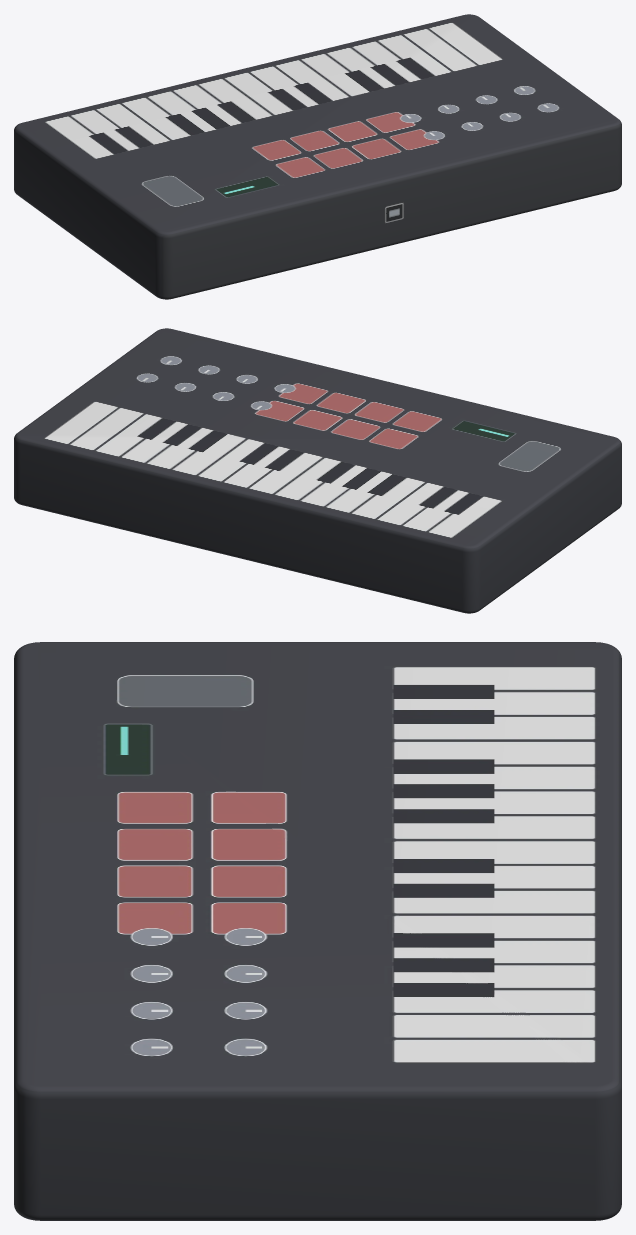
File: akai-mpk-mini-mk3.glb
3 renders of one model, top to bottom at view 1: azimuth 30°, elevation 25°; view 2: azimuth 150°, elevation 25°; view 3: azimuth 270°, elevation 25°, orthographic. The views are drawn at different scales.
Parts seen in each view (by area): view 1: akai-mpk-mini-mk3-body; view 2: akai-mpk-mini-mk3-body; view 3: akai-mpk-mini-mk3-body.
Part boxes in pixels (bbox=[...]): akai-mpk-mini-mk3-body: bbox=[14, 14, 621, 299]; akai-mpk-mini-mk3-body: bbox=[14, 328, 621, 613]; akai-mpk-mini-mk3-body: bbox=[14, 642, 621, 1220].
Bounding box in the file's own units: 0.318 × 0.044 × 0.181.
Materials: 1 (1 with a texture image).
